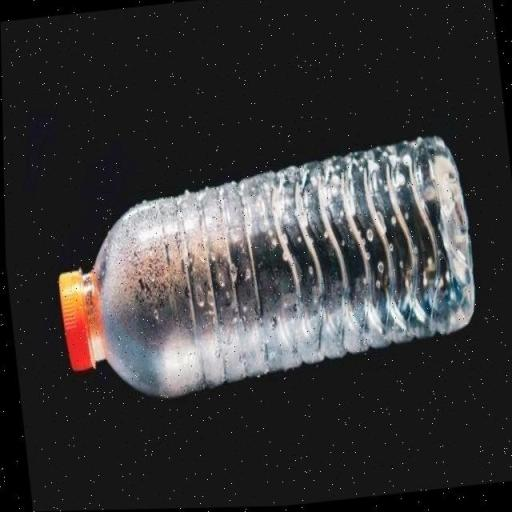plastic: (37, 124, 489, 412)
